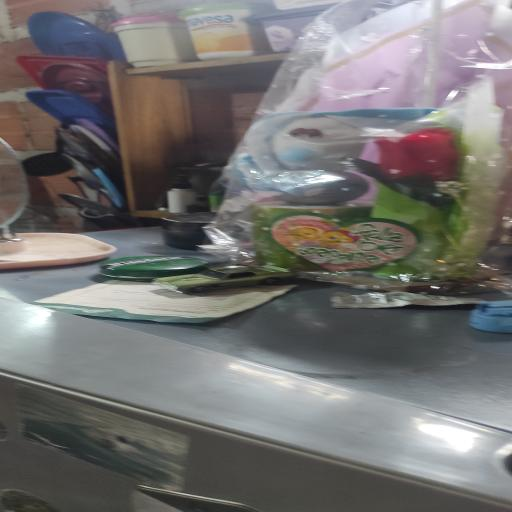Carrito: (154, 265, 296, 293)
